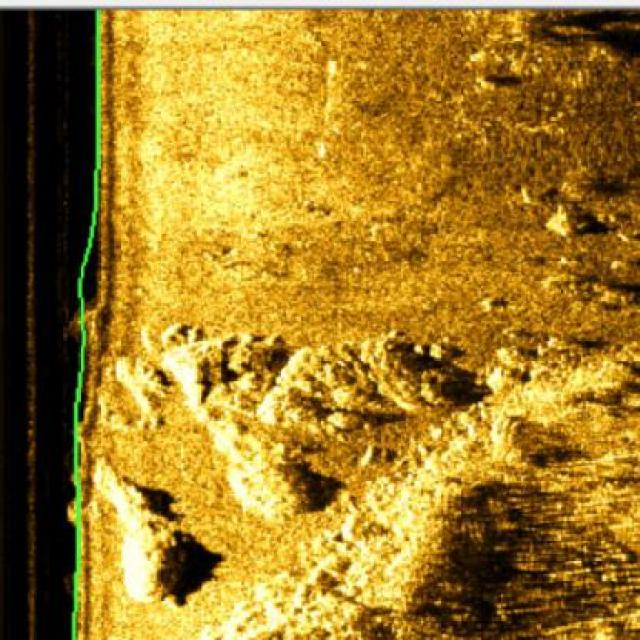bedrock group: (62, 322, 640, 640)
